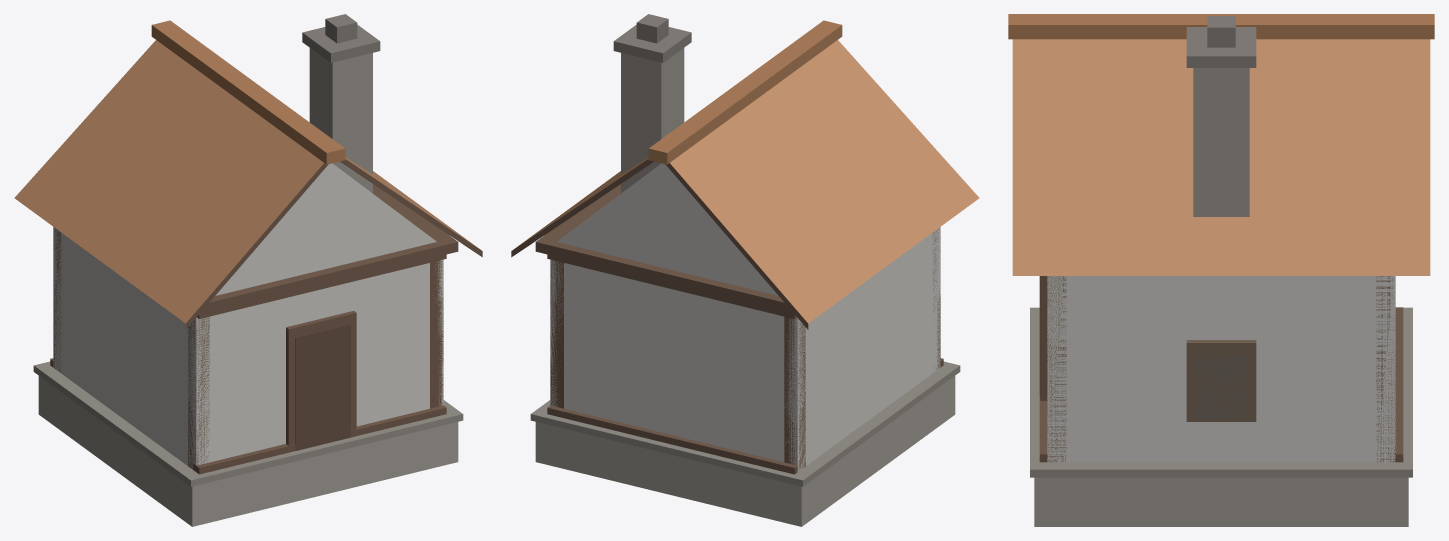
Rendered from house_s.glb.
The picture shows the model from 3 angles, left to right: view 1: azimuth 30°, elevation 25°; view 2: azimuth 150°, elevation 25°; view 3: azimuth 270°, elevation 25°; orthographic projection. The views are drawn at different scales.
Size of the model in its own units: 4.8 by 6.1 by 4.9.
